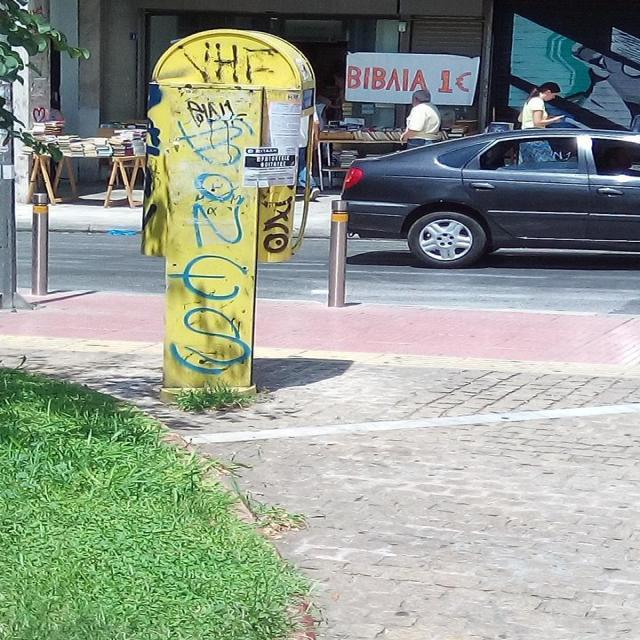nonspitting: (168, 119, 250, 376), (184, 40, 278, 86), (263, 198, 293, 255), (188, 100, 246, 128)
